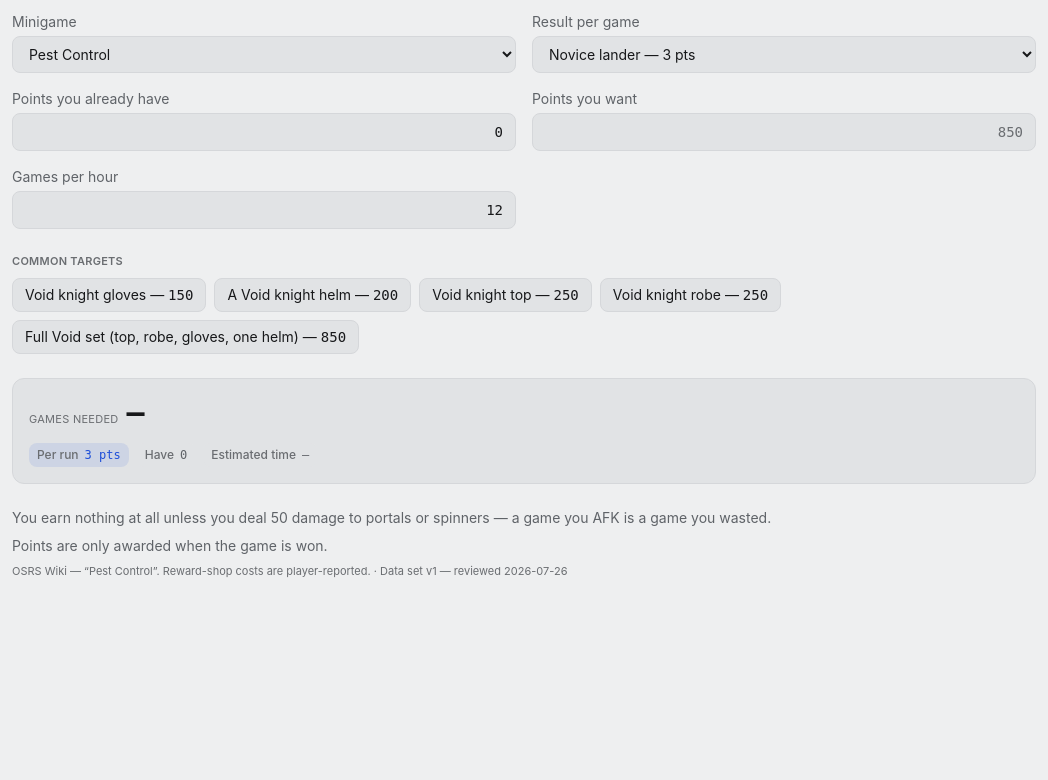
Test: MinigamePointsCalculator › fills the target from a common reward
The image size is (1048, 780).
Click the button "Full Void set (top, robe, gloves, one helm) — 850" at (186,336), box [12, 320, 359, 354]
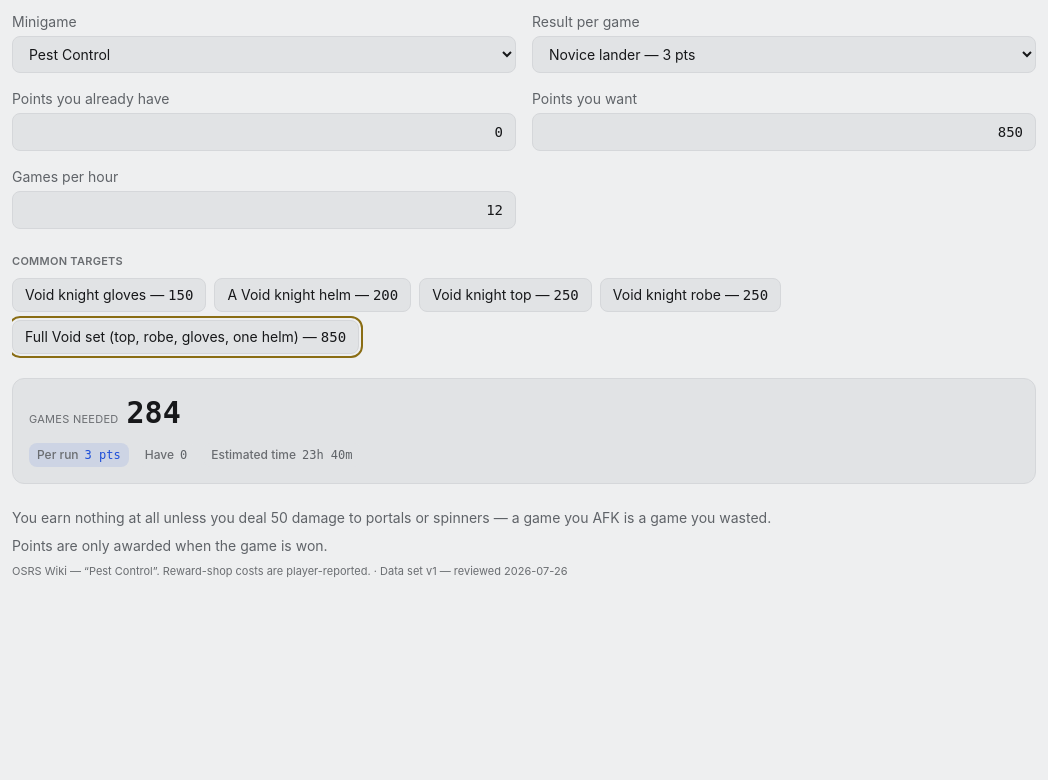
Now the message reads "284", box [127, 394, 181, 430]
